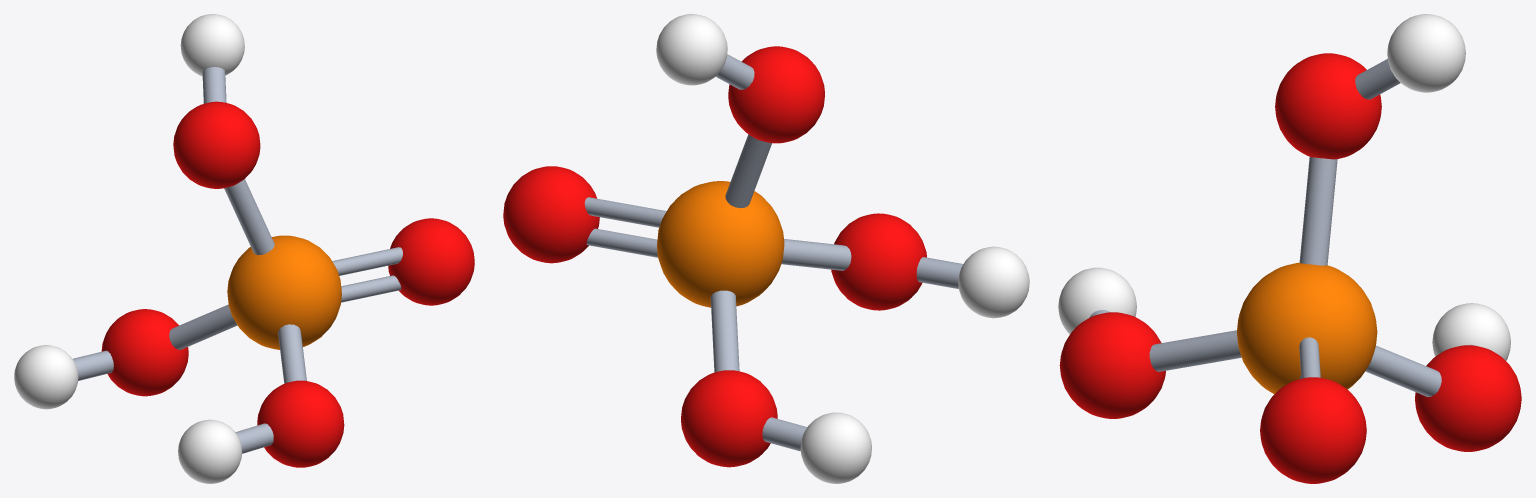
The picture shows the model from 3 angles, left to right: view 1: azimuth 30°, elevation 25°; view 2: azimuth 150°, elevation 25°; view 3: azimuth 270°, elevation 25°; orthographic projection. The views are drawn at different scales.
Visible parts, largest first — view 1: O (×4), H (×3), P, bond (×8); view 2: O (×4), H (×3), P, bond (×8); view 3: O (×4), P, H (×3), bond (×5).
Boxes of the visible parts, bbox=[...] form: O (×4): bbox=[101, 101, 474, 467]; H (×3): bbox=[14, 14, 244, 483]; P: bbox=[227, 235, 341, 349]; bond (×8): bbox=[73, 67, 402, 453]; O (×4): bbox=[503, 46, 926, 467]; H (×3): bbox=[656, 14, 1029, 483]; P: bbox=[657, 181, 784, 307]; bond (×8): bbox=[584, 54, 963, 451]; O (×4): bbox=[1059, 53, 1521, 483]; P: bbox=[1236, 262, 1377, 394]; H (×3): bbox=[1058, 14, 1510, 360]; bond (×5): bbox=[1149, 59, 1441, 396].
Size of the model in its own units: 0.22 by 0.2044 by 0.1868.
